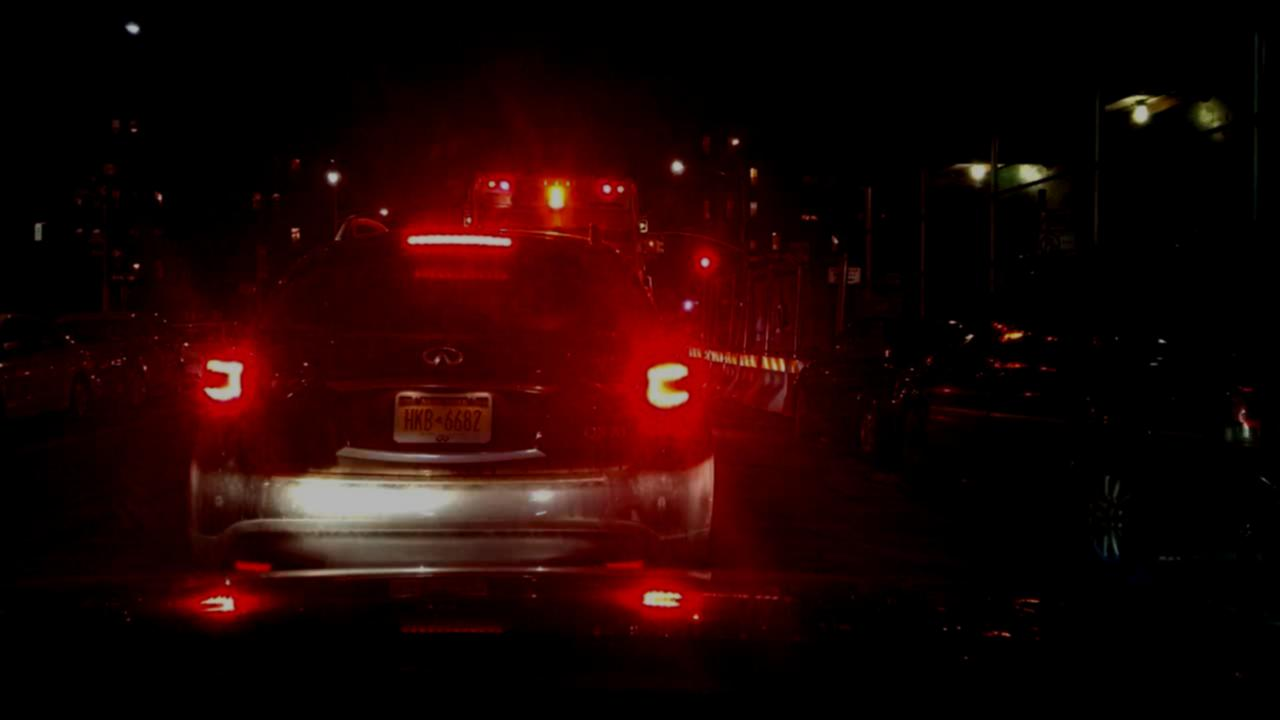Infiniti: (413, 338, 484, 386)
